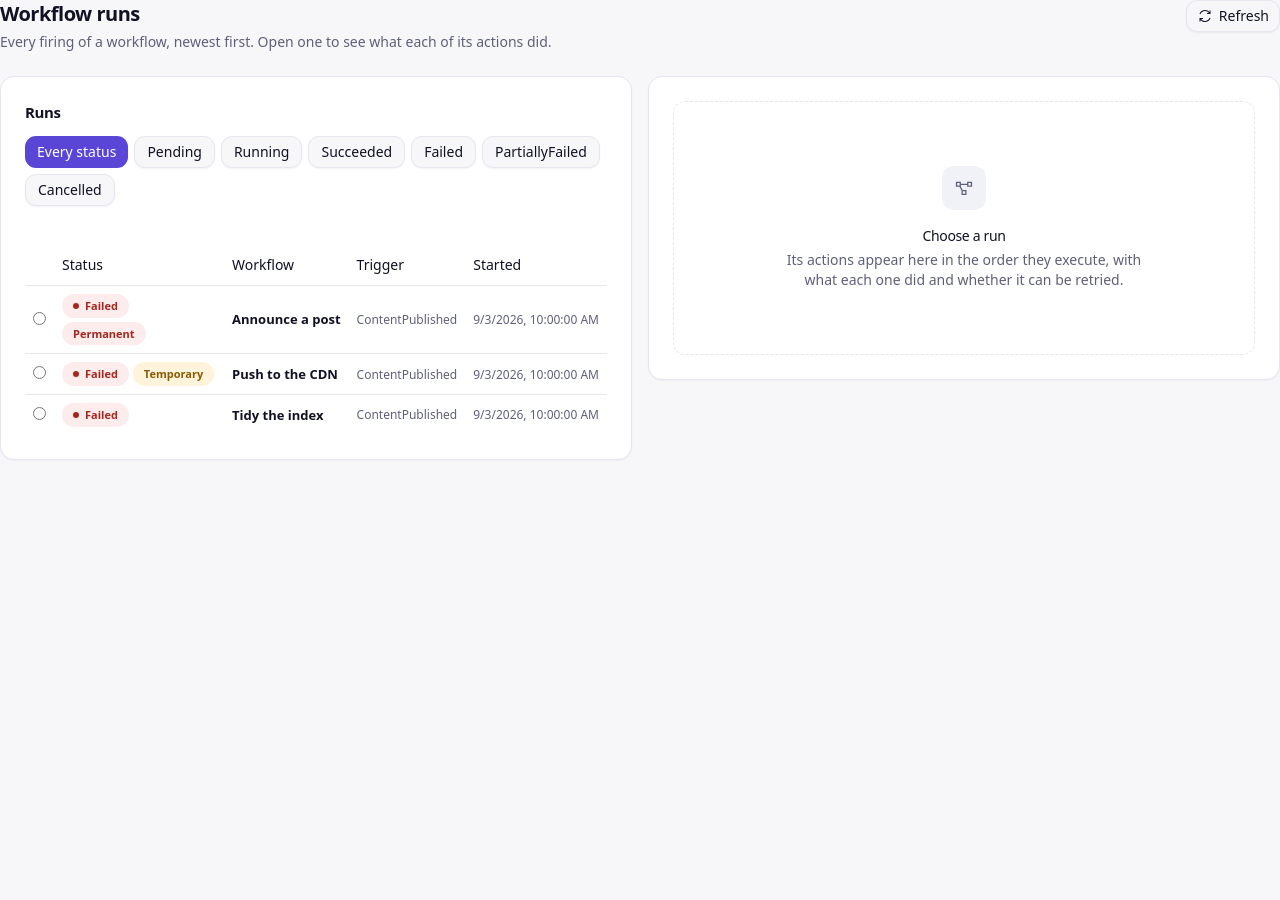
Test: the workflow runs screen and the kind of a failure › sends no request when the question on a permanent failure is cancelled
The width and height of the screenshot is (1280, 900).
Click the radio button named "Announce a post".
click(40, 318)  # box [33,312,46,325]
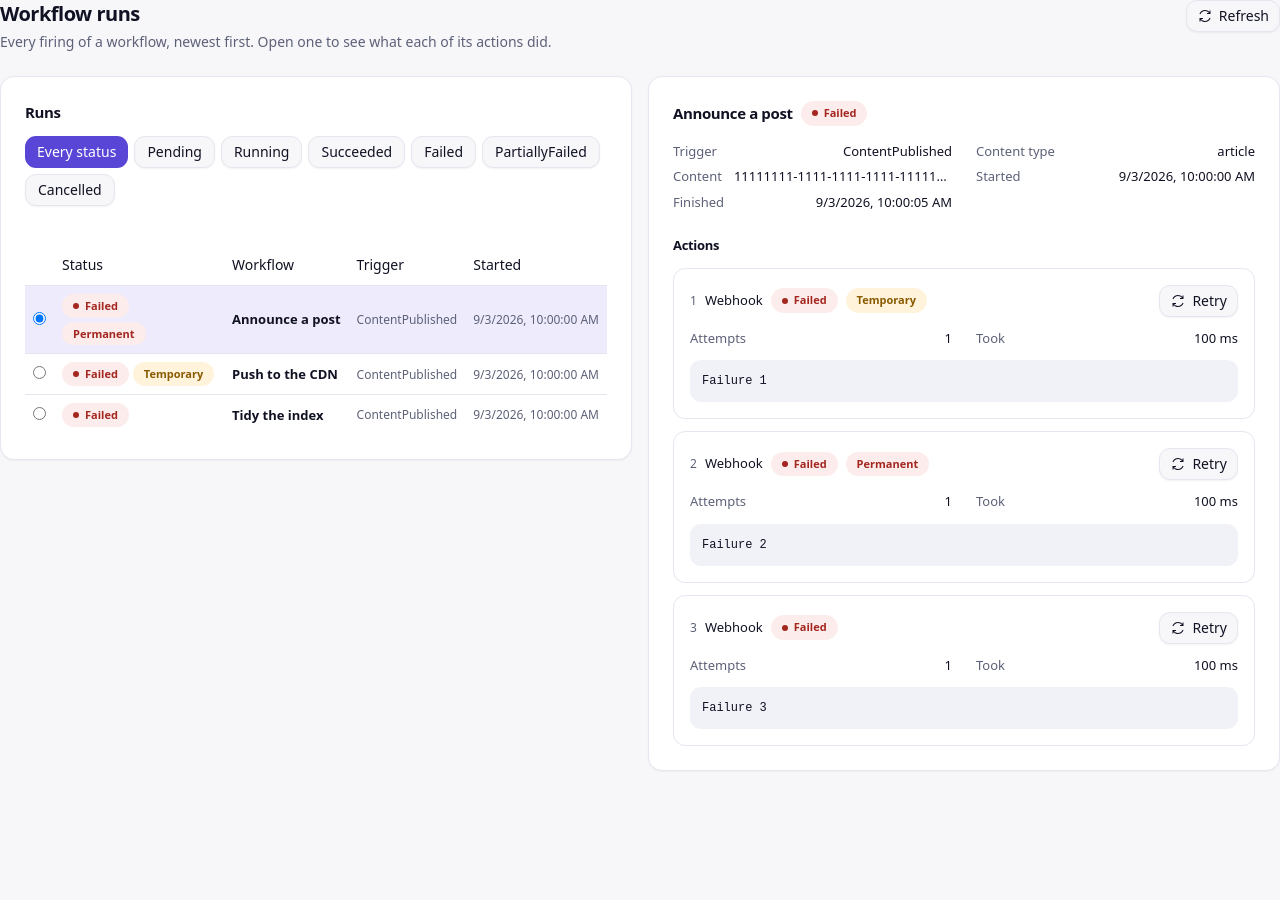
Result: the number of list items is 3 at [673,268,1255,419]; [673,431,1255,582]; [673,594,1255,746]
Click the button with aria-label "Retry action 2".
click(1199, 464)  # box [1159,448,1238,480]
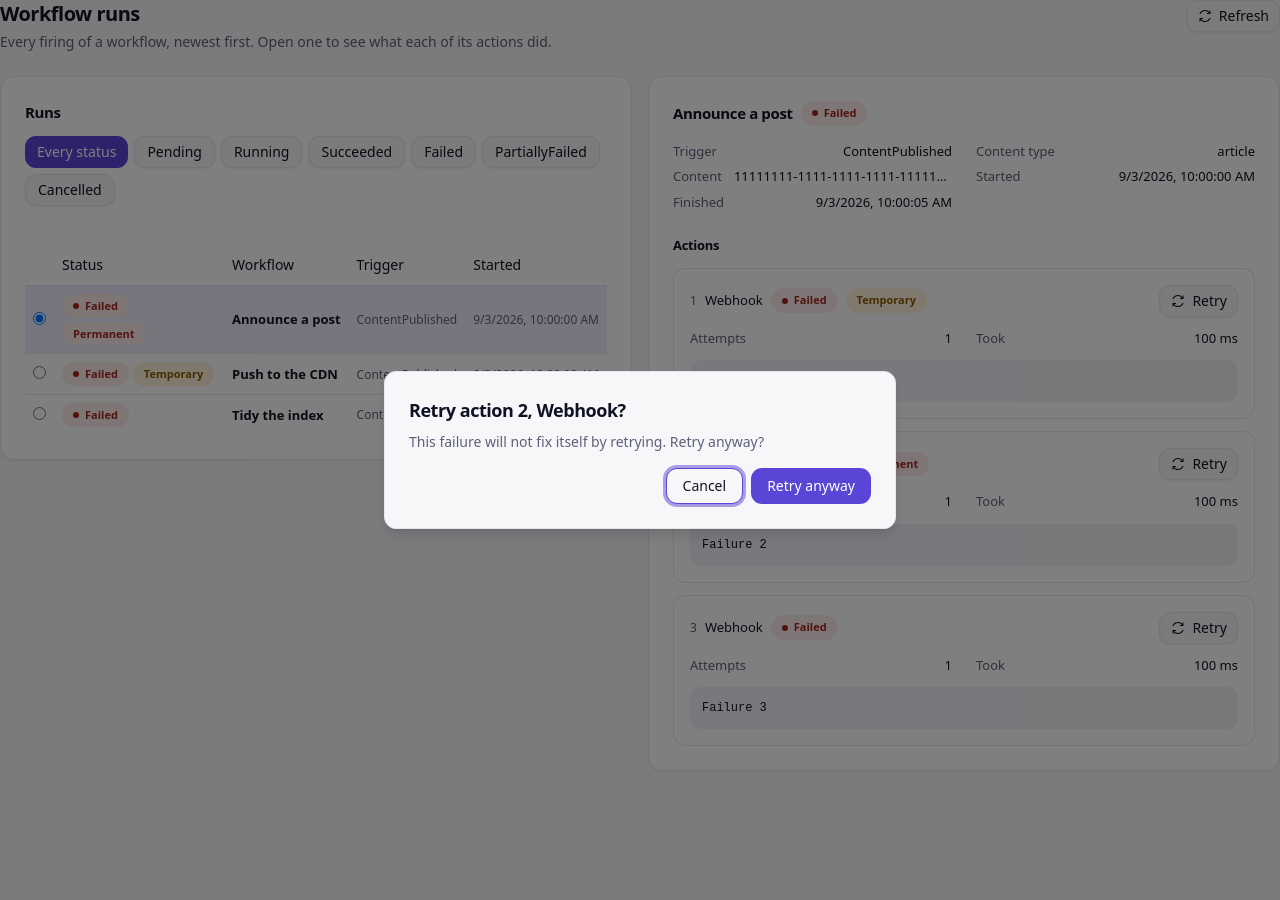
Result: the dialog shows "This failure will not fix itself by retrying. Retry anyway?" at [409,432,764,451]
Click the button "Cancel".
click(704, 486)  # box [666,468,743,504]
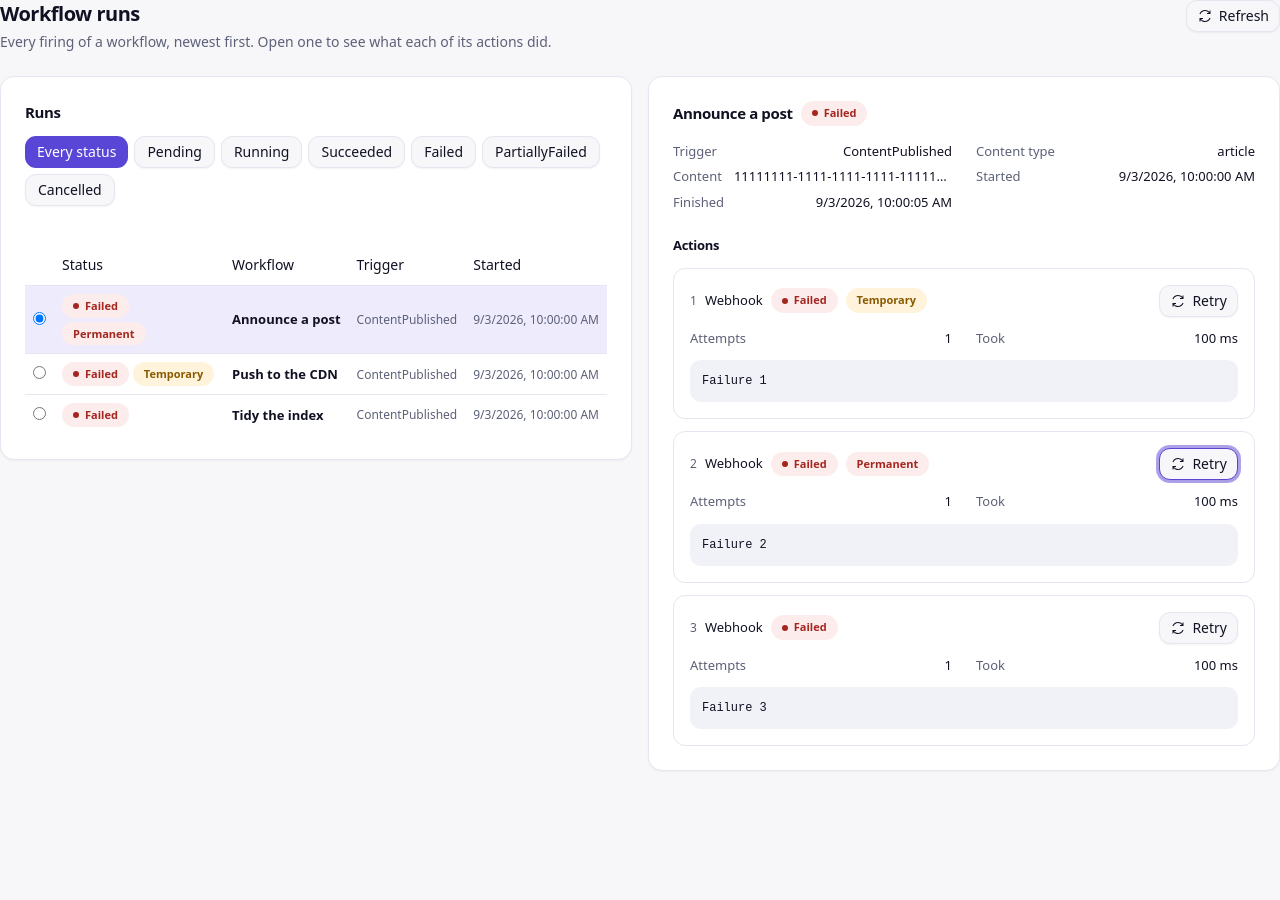
Result: the dialog is gone
